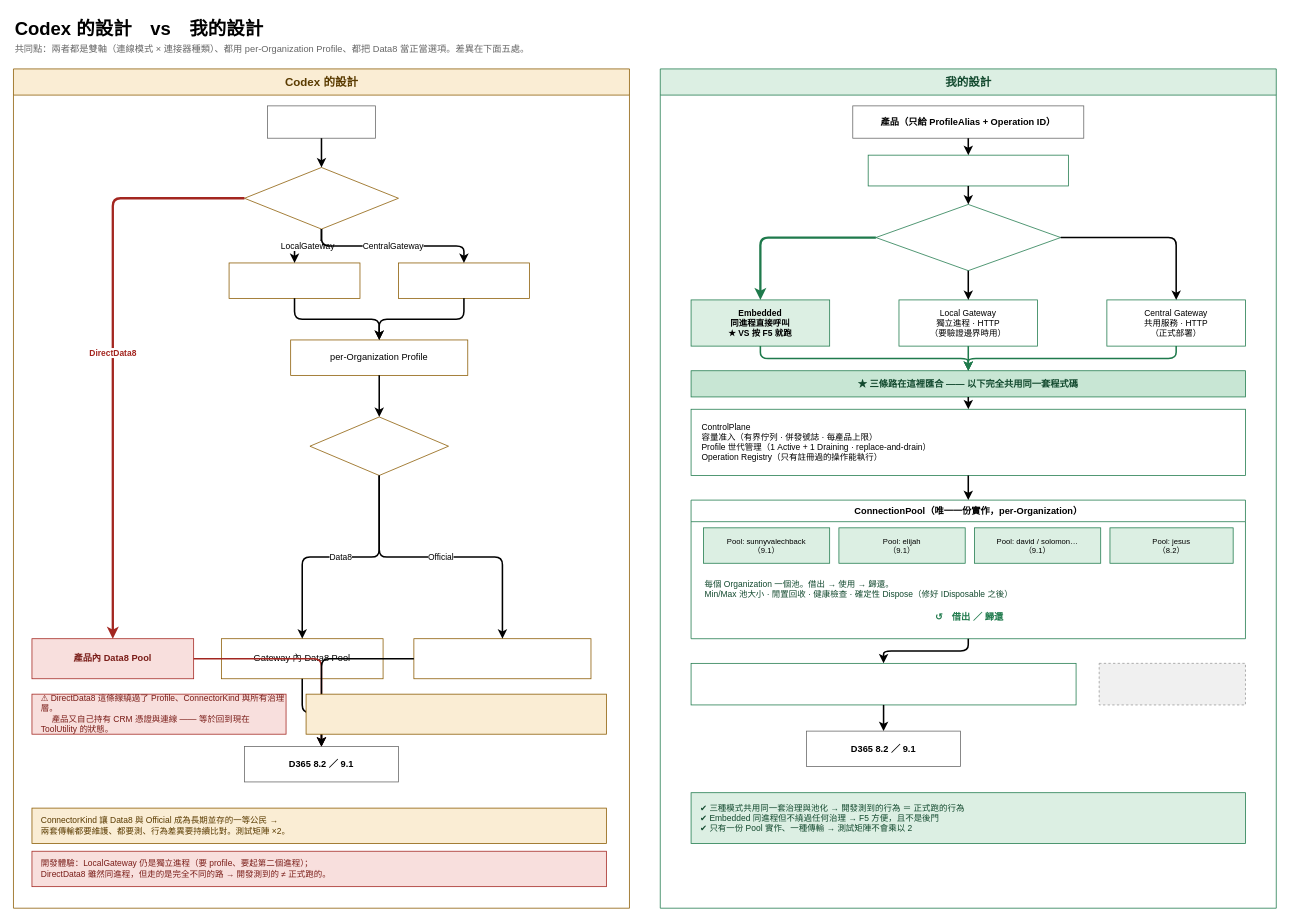
This 1290x922 diagram has some shape labels left out. Here are the shapes that lost their labels. From the top down, the centre of each, then its label:
At pixel 321 121: "產品".
At pixel 967 170: "ProductClient（唯一入口）".
At pixel 321 198: "ConnectionMode".
At pixel 968 237: "ExecutionMode （只決定「走不走 HTTP」）".
At pixel 294 280: "Local Gateway".
At pixel 463 280: "Central Gateway".
At pixel 379 445: "ConnectorKind".
At pixel 502 658: "net48 Worker Process Pool".
At pixel 883 684: "Data8 連接器（單一傳輸實作 · MIT · 原始碼在 repo） crm82 → sdkVersion:8 crm91 → sdkVersion:9".
At pixel 1171 684: "net48 官方 Worker 【保留但停用】 作為退路，不平行維護".
At pixel 455 713: "三個不同的 Pool 方塊 → 是三份實作，還是同一份掛在不同宿主？ 圖上看不出來。若是三份，就有三倍維護成本與三種洩漏風險。".
